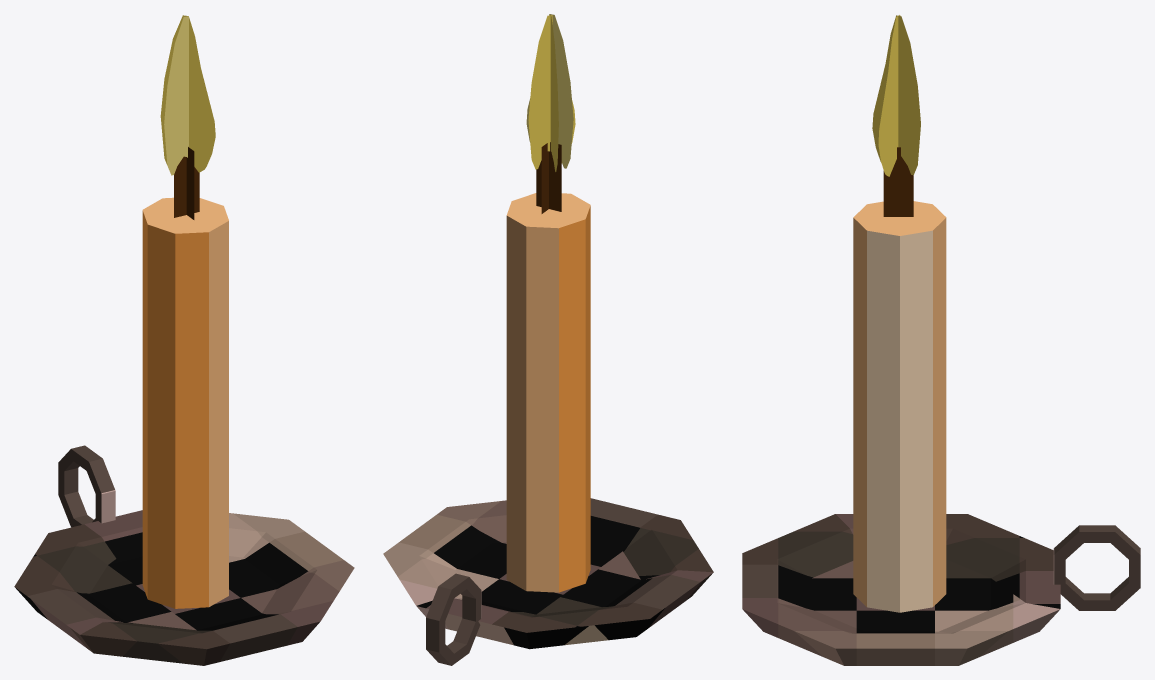
File: candle_338x06.gltf
3 renders of one model, left to right at view 1: azimuth 30°, elevation 25°; view 2: azimuth 150°, elevation 25°; view 3: azimuth 270°, elevation 25°, orthographic. The views are drawn at different scales.
Visible parts, largest first — view 1: candle_338x06; view 2: candle_338x06; view 3: candle_338x06.
Part boxes in pixels (x1,y1,x2,y2): candle_338x06: [14, 15, 354, 665]; candle_338x06: [383, 14, 713, 665]; candle_338x06: [742, 15, 1140, 665].
Size of the model in its own units: 0.5085 by 1.04 by 0.6362.
Materials: 1 (1 with a texture image).
